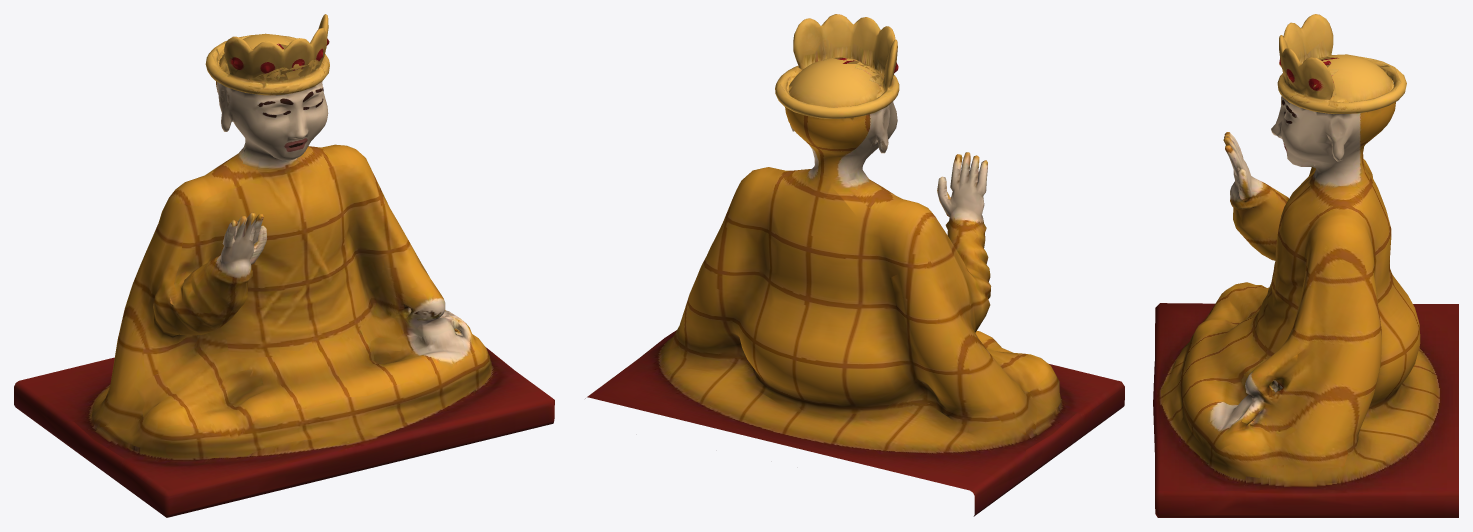
The model's file is thanhhien.glb.
3 views of the same model, side by side, from view 1: azimuth 30°, elevation 25°; view 2: azimuth 150°, elevation 25°; view 3: azimuth 270°, elevation 25° (orthographic).
Visible parts, largest first — view 1: thanhhien; view 2: thanhhien; view 3: thanhhien.
Boxes of the visible parts, left/top/right/bottom form: thanhhien: left=14, top=14, right=554, bottom=517; thanhhien: left=585, top=14, right=1124, bottom=516; thanhhien: left=1153, top=14, right=1458, bottom=517.
Size of the model in its own units: 1.21 by 1.14 by 0.8125.
Materials: 1 (1 with a texture image).
